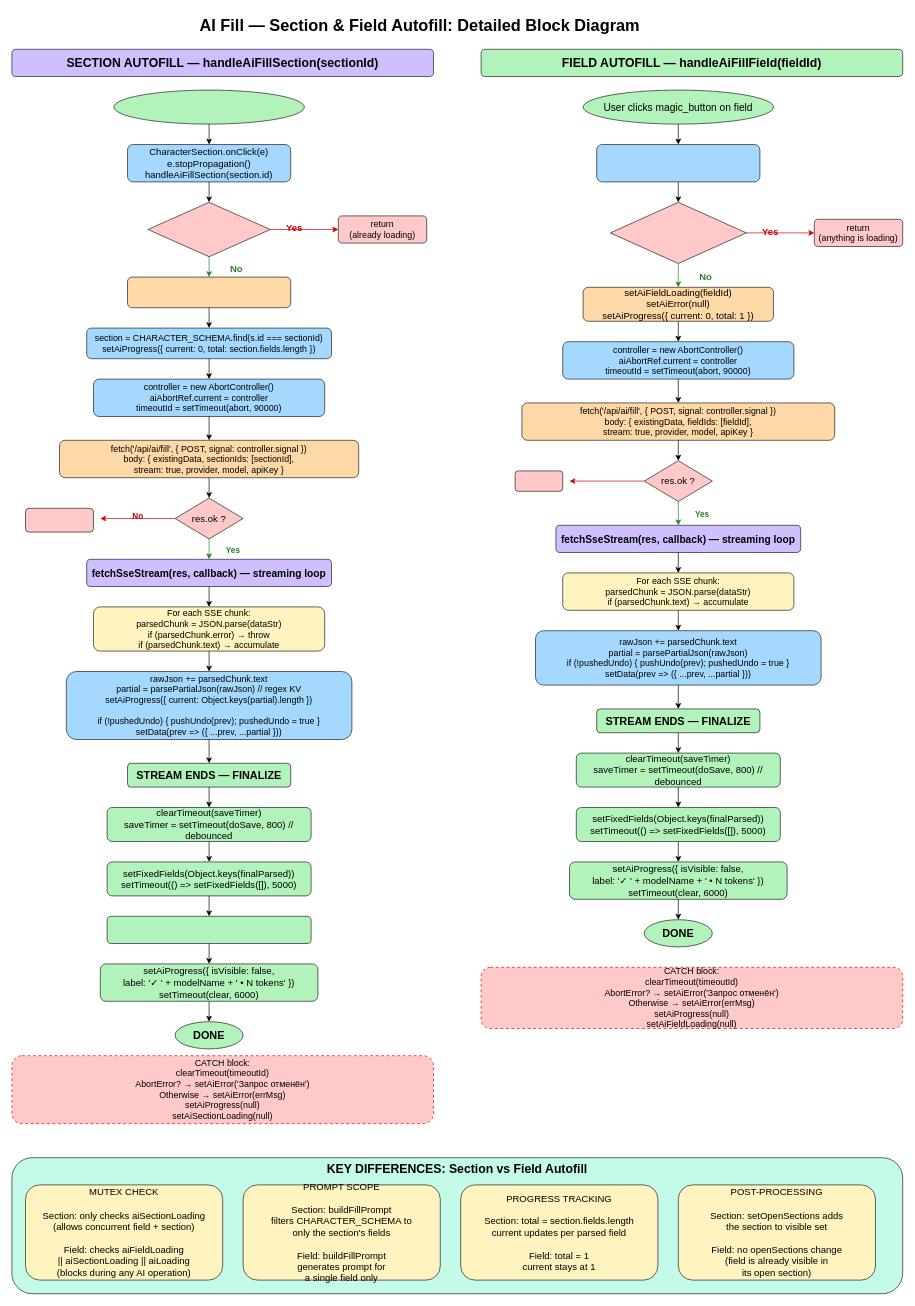
The diagram is 915 pixels wide and 1306 high, and some of its shapes have lost their labels. The shapes that lost their labels are listed below. From the top down, each one's centre as x and y in pixels, then its label:
At (x=208, y=106): "User clicks ✨ on section header".
At (x=678, y=163): "CharacterSection.onClick(e) e.stopPropagation() handleAiFillField(field.id)".
At (x=208, y=229): "aiSectionLoading !== null ?".
At (x=678, y=233): "aiFieldLoading || aiSectionLoading || aiLoading ?".
At (x=209, y=292): "setAiSectionLoading(sectionId) setAiError(null)".
At (x=538, y=480): "throw Error".
At (x=59, y=520): "throw Error('HTTP ' + status)".
At (x=208, y=930): "setOpenSections(prev => new Set(prev).add(sectionId))".
